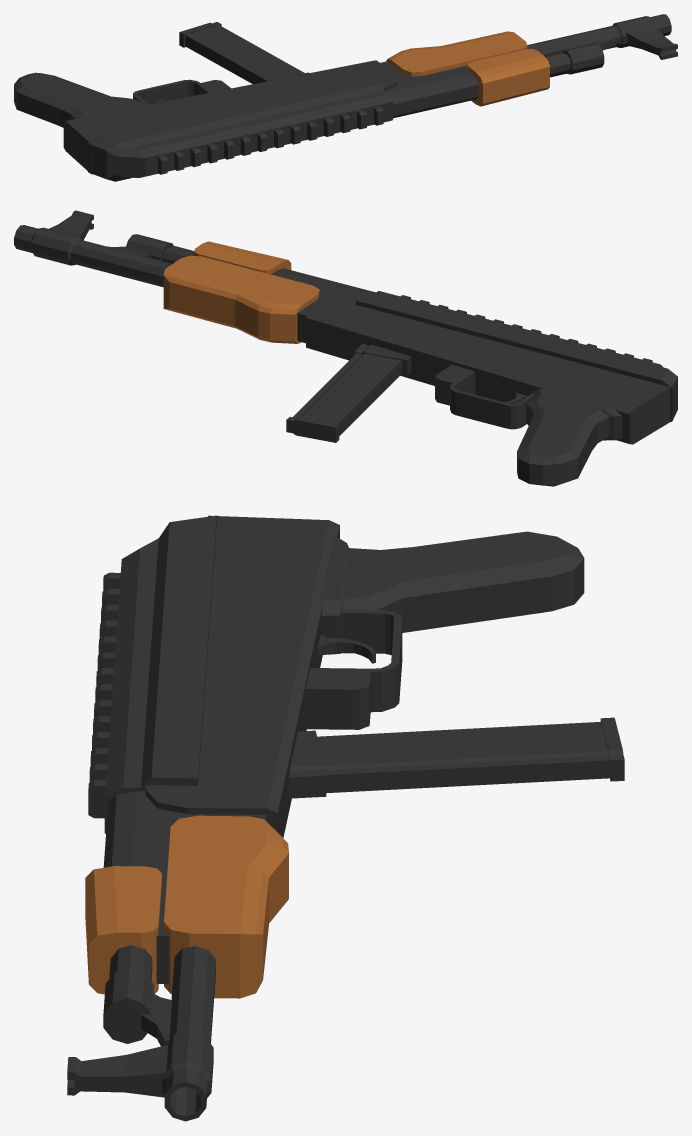
File: Guns_1.fbx
3 views of the same model, one above another, from view 1: azimuth 30°, elevation 25°; view 2: azimuth 150°, elevation 25°; view 3: azimuth 270°, elevation 25° (orthographic). The views are drawn at different scales.
Parts seen in each view (by area): view 1: Gun-1; view 2: Gun-1; view 3: Gun-1.
Boxes of the visible parts, x1,y1,x2,y2 form: Gun-1: (14, 14, 677, 181); Gun-1: (14, 210, 677, 486); Gun-1: (67, 515, 624, 1121).
Size of the model in its own units: 1.93 by 0.1218 by 0.8162.
